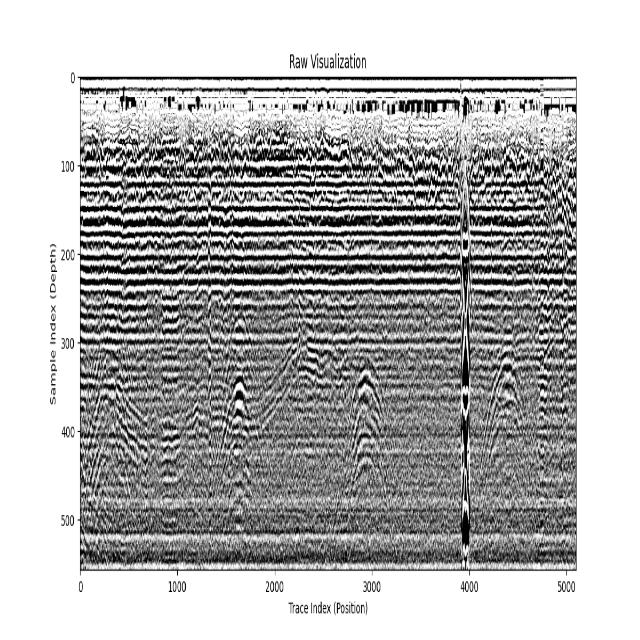anomaly: (162, 331, 365, 466), (319, 355, 399, 567), (84, 343, 151, 573), (477, 356, 535, 540), (217, 301, 252, 537), (460, 135, 469, 561)
